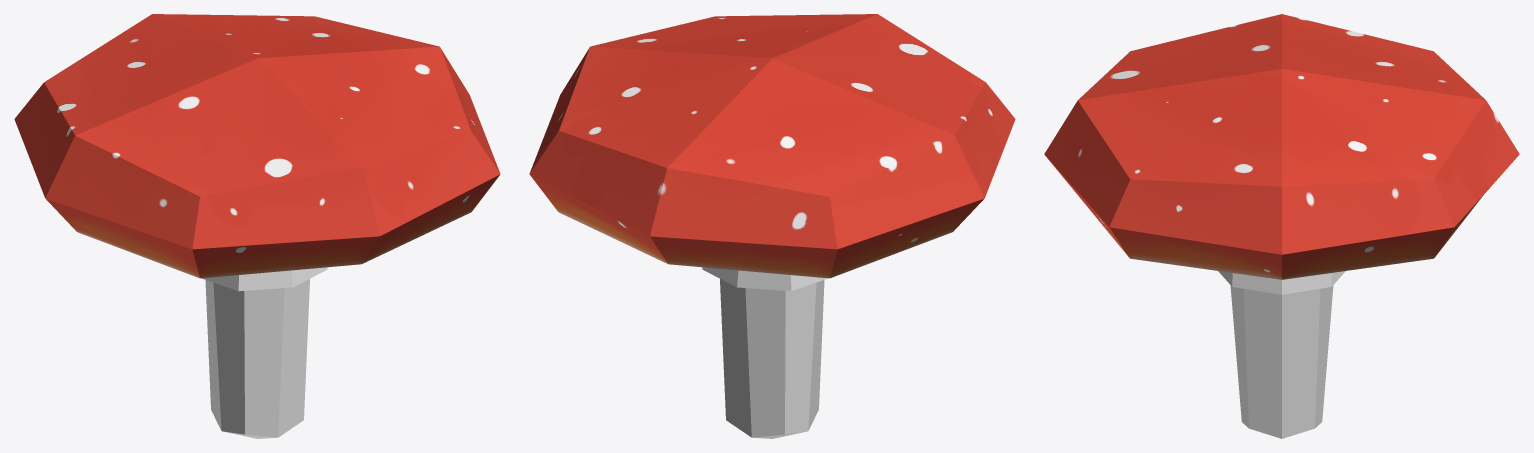
The model's file is Punakarpassieni.fbx.
3 renders of one model, left to right at view 1: azimuth 30°, elevation 25°; view 2: azimuth 150°, elevation 25°; view 3: azimuth 270°, elevation 25°, orthographic. The views are drawn at different scales.
Parts seen in each view (by area): view 1: Cap.003, Leg.003; view 2: Cap.003, Leg.003; view 3: Cap.003, Leg.003.
Part boxes in pixels (bbox=[...]): Cap.003: bbox=[14, 14, 500, 278]; Leg.003: bbox=[202, 267, 327, 438]; Cap.003: bbox=[529, 14, 1015, 278]; Leg.003: bbox=[702, 267, 827, 438]; Cap.003: bbox=[1044, 14, 1519, 279]; Leg.003: bbox=[1218, 271, 1345, 438].
Size of the model in its own units: 26.01 by 22.28 by 26.01.
